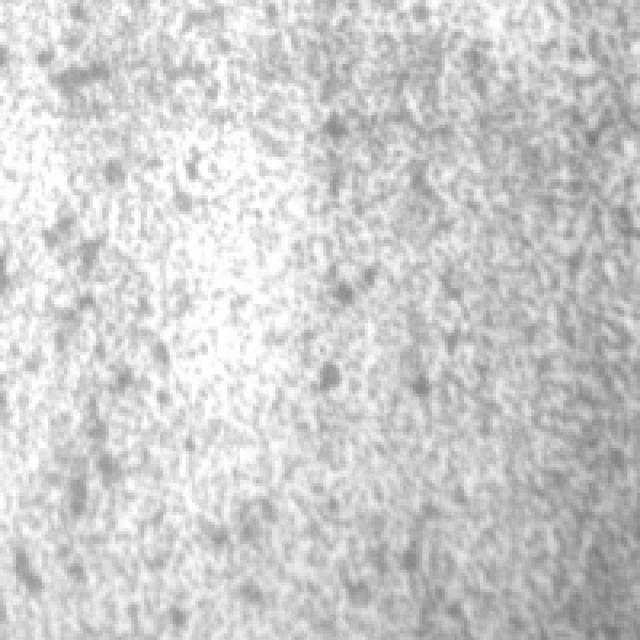pitted_surface: (12, 39, 474, 598), (448, 0, 627, 634)
